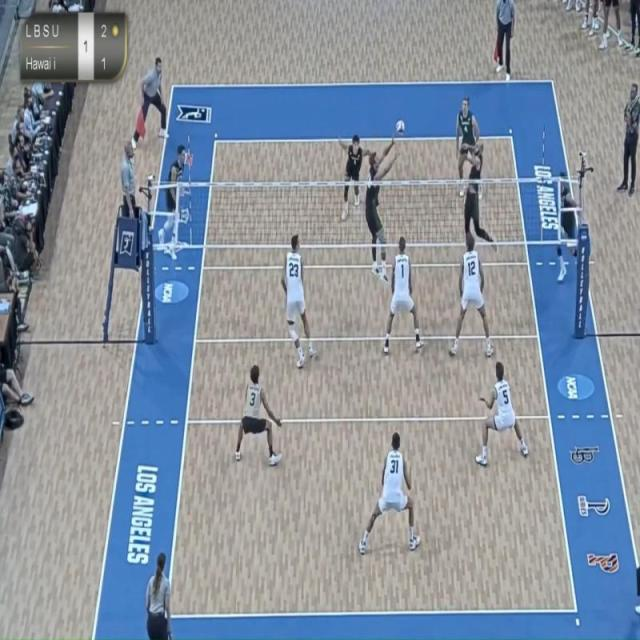volleyball: (394, 115, 406, 138)
